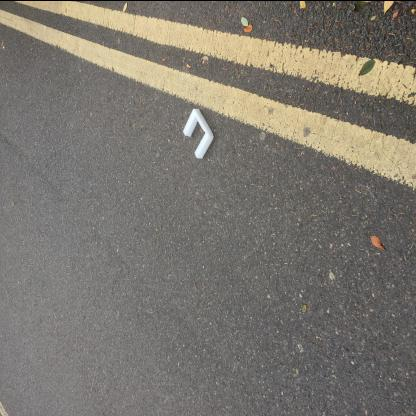kopuk: (183, 107, 214, 158)
